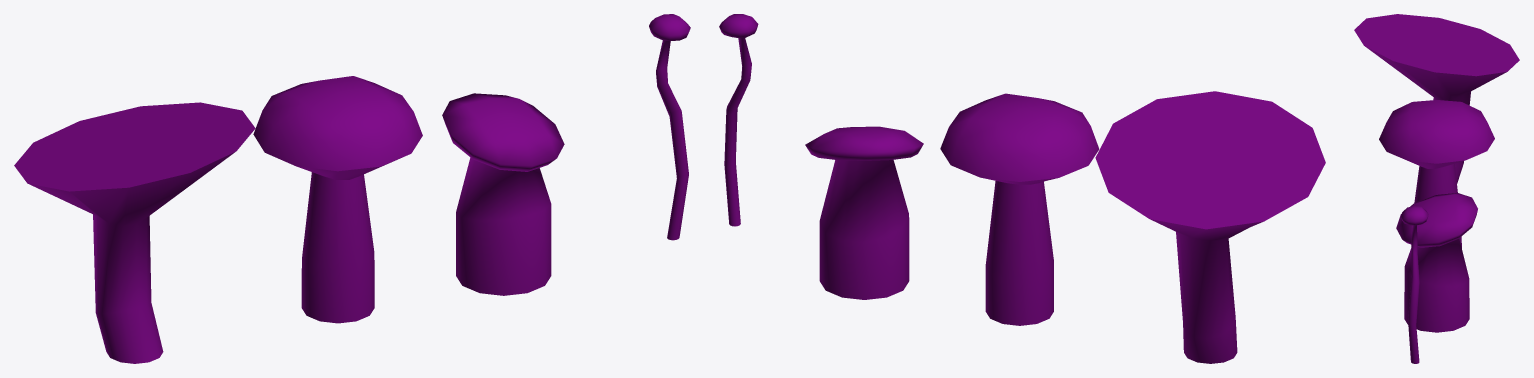
Rendered from fbx_Foliage_Mushrooms.FBX.
3 renders of one model, left to right at view 1: azimuth 30°, elevation 25°; view 2: azimuth 150°, elevation 25°; view 3: azimuth 270°, elevation 25°, orthographic. The views are drawn at different scales.
Visible parts, largest first — view 1: mesh_Foliage_Mushroom01, mesh_Foliage_Mushroom002, mesh_Foliage_Mushroom003, mesh_Foliage_Mushroom004; view 2: mesh_Foliage_Mushroom01, mesh_Foliage_Mushroom002, mesh_Foliage_Mushroom003, mesh_Foliage_Mushroom004; view 3: mesh_Foliage_Mushroom01, mesh_Foliage_Mushroom003, mesh_Foliage_Mushroom002, mesh_Foliage_Mushroom004.
Part boxes in pixels (bbox=[...]): mesh_Foliage_Mushroom01: bbox=[14, 102, 255, 363]; mesh_Foliage_Mushroom002: bbox=[253, 76, 422, 323]; mesh_Foliage_Mushroom003: bbox=[442, 93, 564, 295]; mesh_Foliage_Mushroom004: bbox=[649, 14, 690, 240]; mesh_Foliage_Mushroom01: bbox=[1095, 91, 1325, 363]; mesh_Foliage_Mushroom002: bbox=[940, 93, 1099, 325]; mesh_Foliage_Mushroom003: bbox=[805, 126, 923, 299]; mesh_Foliage_Mushroom004: bbox=[719, 14, 758, 226]; mesh_Foliage_Mushroom01: bbox=[1354, 14, 1519, 183]; mesh_Foliage_Mushroom003: bbox=[1396, 193, 1477, 332]; mesh_Foliage_Mushroom002: bbox=[1379, 100, 1494, 248]; mesh_Foliage_Mushroom004: bbox=[1401, 206, 1428, 363].
Size of the model in its own units: 79.81 by 28.68 by 26.01.
